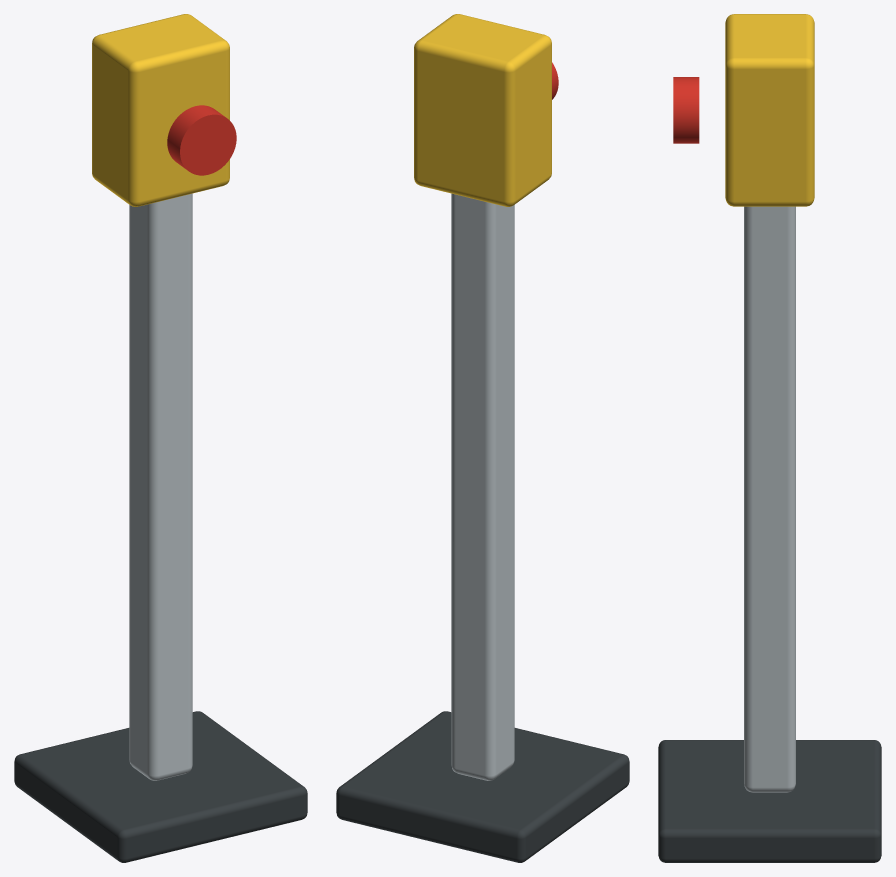
The model's file is recycling-centre-and-material-sorting-emergency-stop-p-5fca4b67__31143.glb.
3 views of the same model, side by side, from view 1: azimuth 30°, elevation 25°; view 2: azimuth 150°, elevation 25°; view 3: azimuth 270°, elevation 25° (orthographic). The views are drawn at different scales.
Visible parts, largest first — view 1: emergency-stop-pedestal; view 2: emergency-stop-pedestal; view 3: emergency-stop-pedestal.
Boxes of the visible parts, x1,y1,x2,y2 form: emergency-stop-pedestal: [14, 14, 307, 862]; emergency-stop-pedestal: [336, 14, 629, 862]; emergency-stop-pedestal: [658, 14, 881, 862].
Size of the model in its own units: 0.3 by 1.16 by 0.3.
